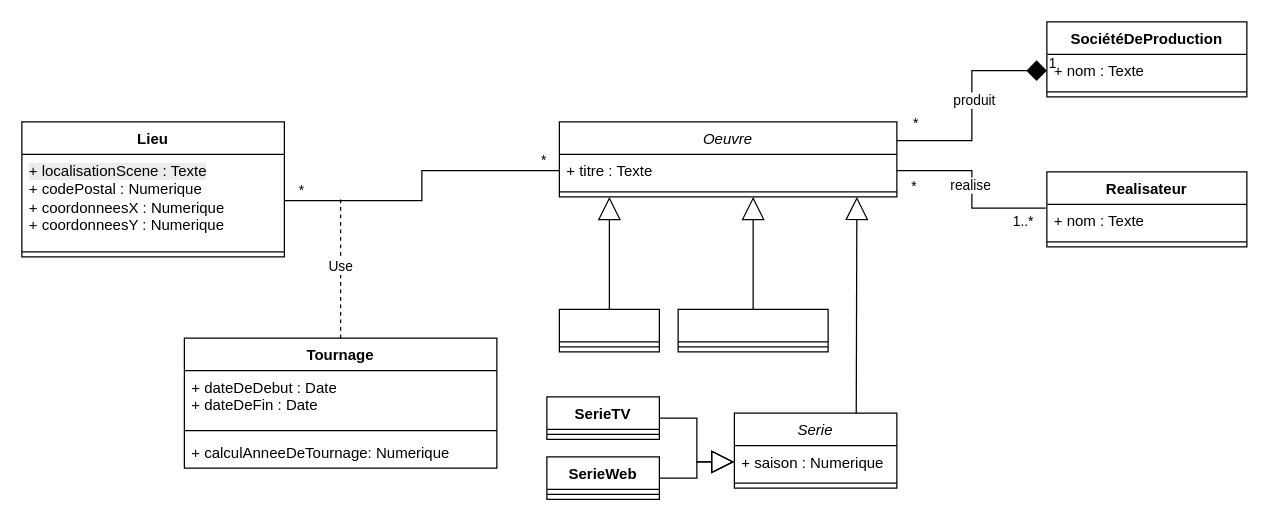
Image size: 1269x523. Some labels were removed from this diagram. Each missing label, with the centre of its shape:
LongMetrage: point (752, 330)
Telefilm: point (608, 330)
